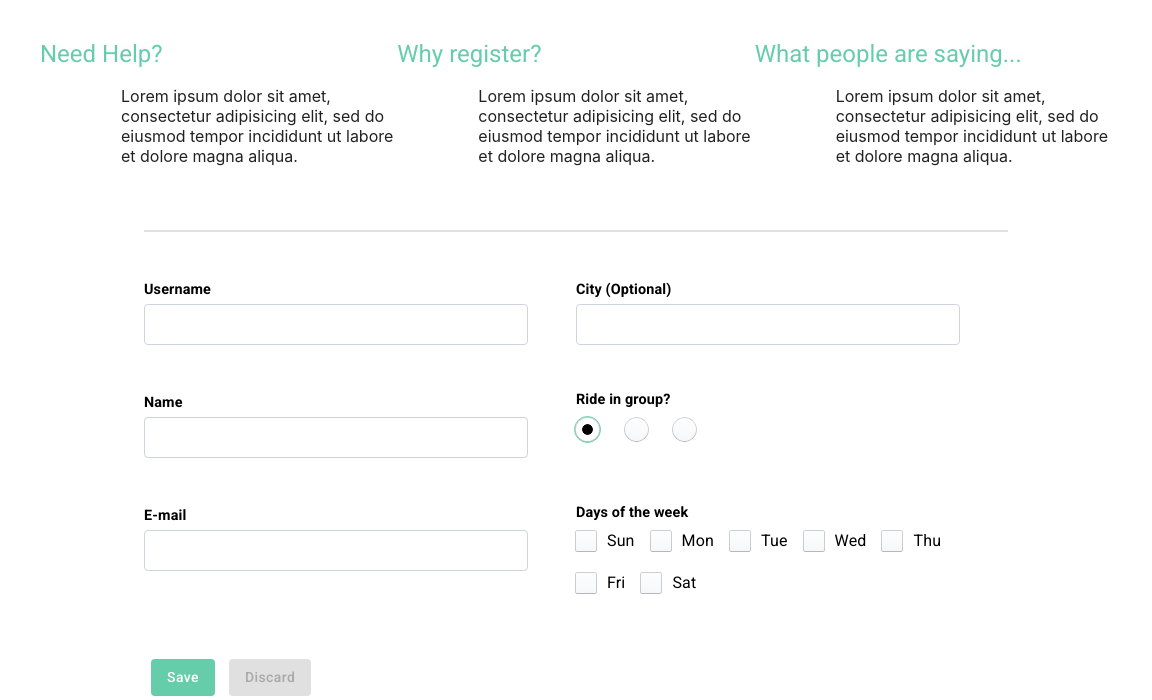
should show validation errors
The image size is (1152, 700).
(page scrolled)
Note: Clicking save btn
Click the button "Save". click: click(183, 678)
box: [151,659,215,696]
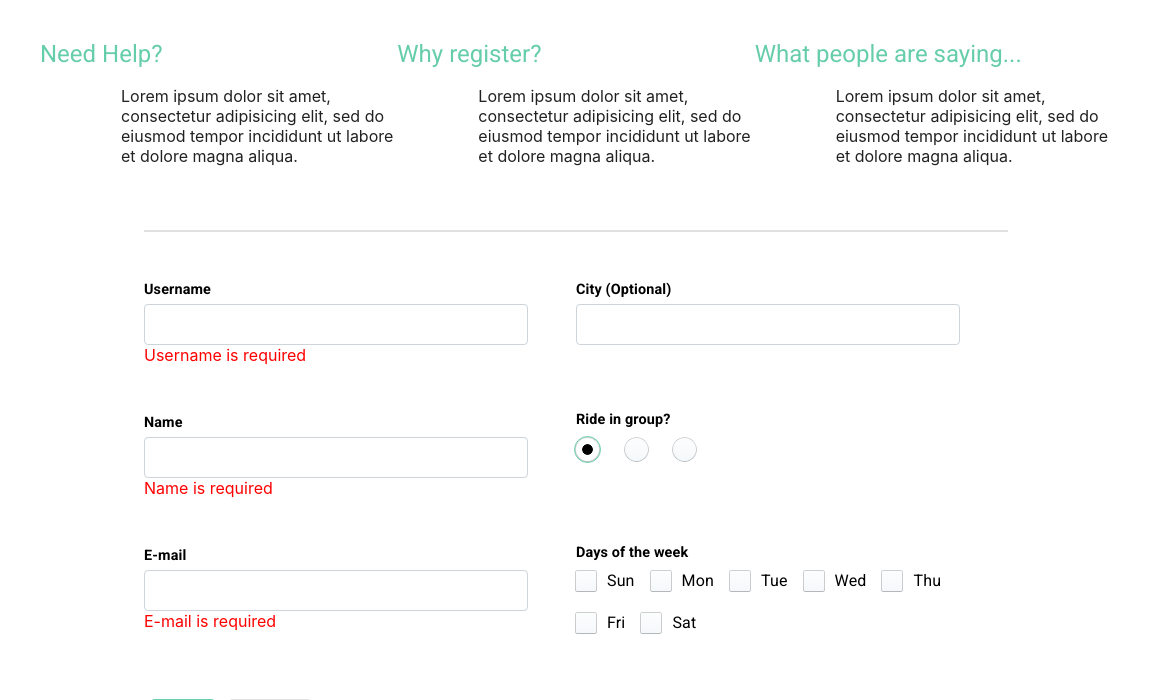
Now the text "Username is required" is shown, box [144,345,306,365]
